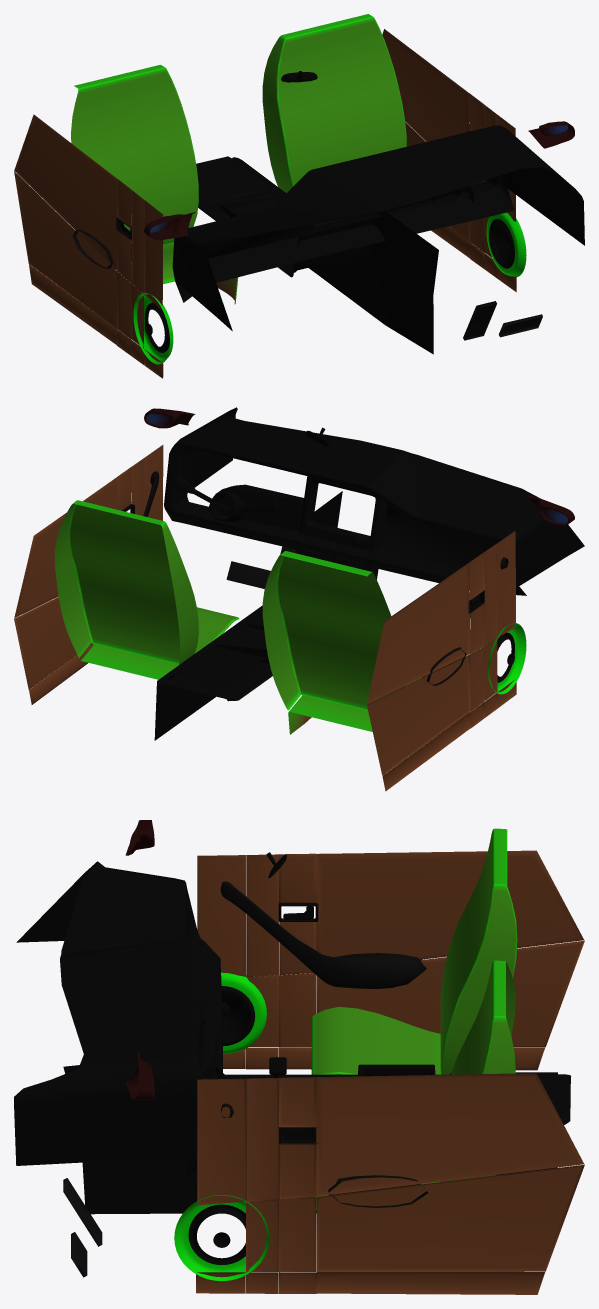
The model's file is VRCarInterior_V3.fbx.
3 renders of one model, top to bottom at view 1: azimuth 30°, elevation 25°; view 2: azimuth 150°, elevation 25°; view 3: azimuth 270°, elevation 25°, orthographic. The views are drawn at different scales.
Visible parts, largest first — view 1: InteriorNoSW1; view 2: InteriorNoSW1; view 3: InteriorNoSW1.
Boxes of the visible parts, <box> form: InteriorNoSW1: <box>14,14,584,378</box>; InteriorNoSW1: <box>14,407,584,791</box>; InteriorNoSW1: <box>14,820,584,1294</box>.
Bounding box in the file's own units: 198 × 111 × 177.
